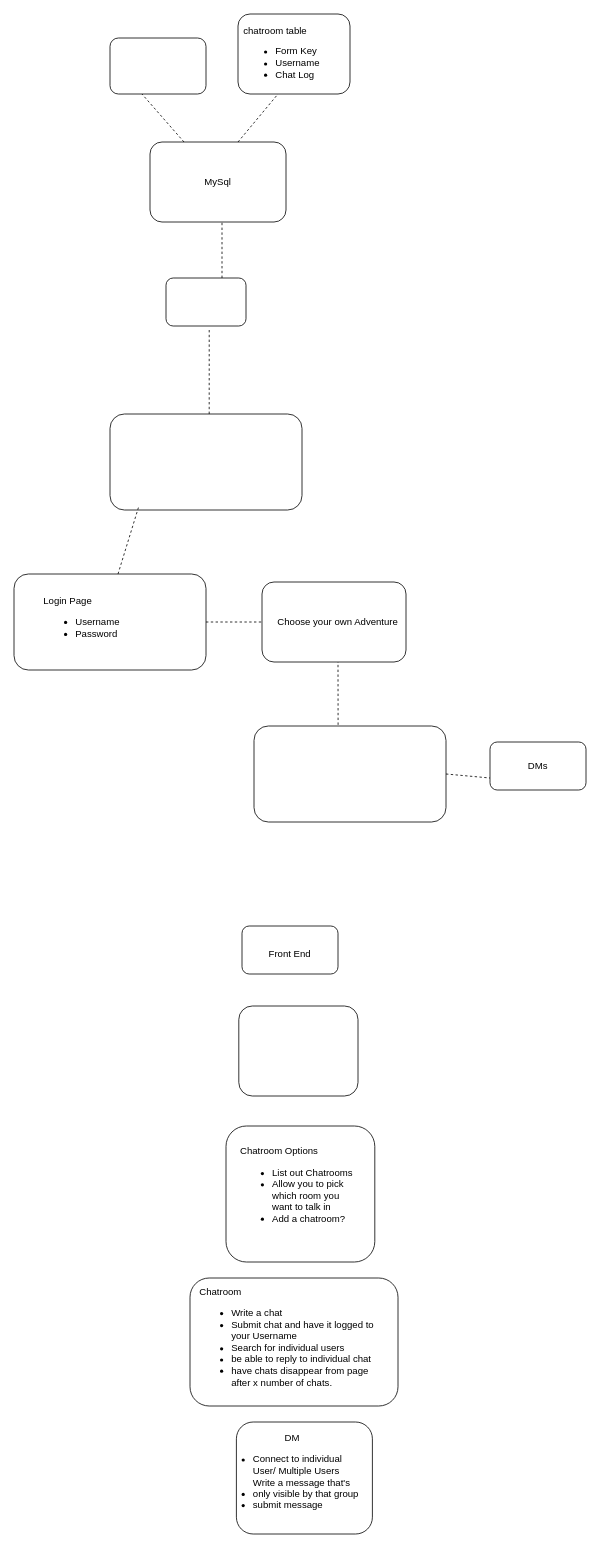
This 600x1548 diagram has some shape labels left out. Each missing label, with the box of its shape:
Chat App: (109, 413, 302, 510)
Chatroom Log a comment Search for User Reply to user?: (253, 725, 446, 822)
Login Page Pop up Username Password Submit Button: (238, 1005, 358, 1096)
NodeJS: (165, 277, 246, 326)
user table Username Password Form Key: (109, 37, 206, 94)
